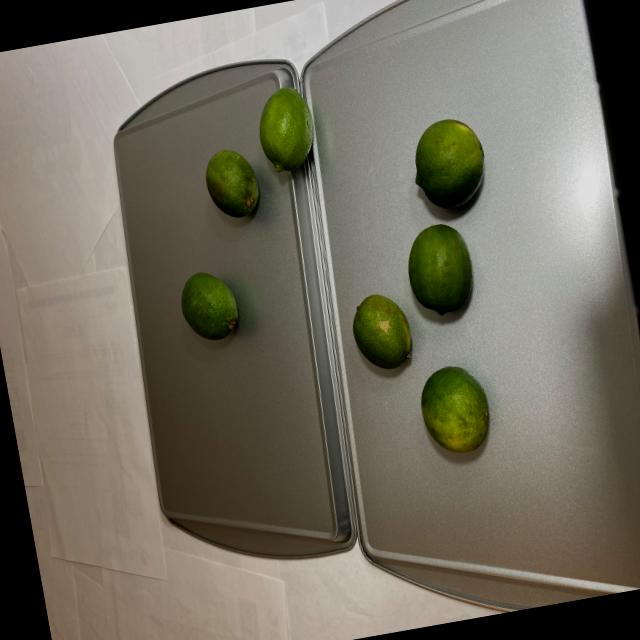lemon: (319, 112, 538, 473), (146, 83, 352, 344)
